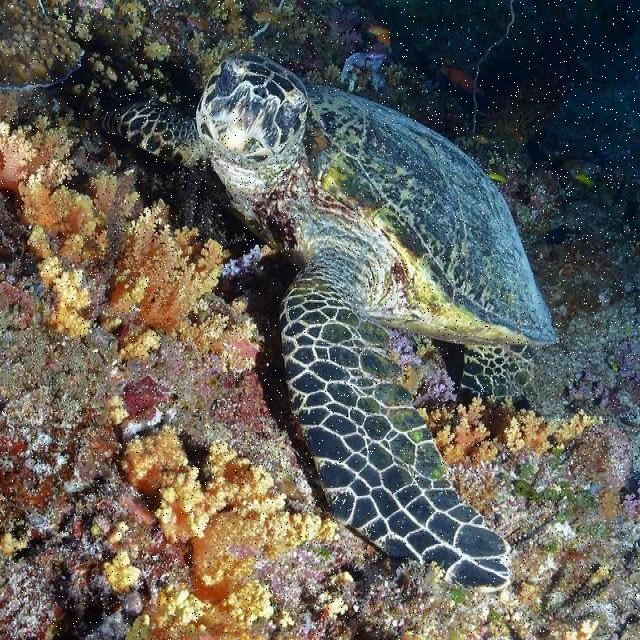fish: (76, 56, 561, 600)
